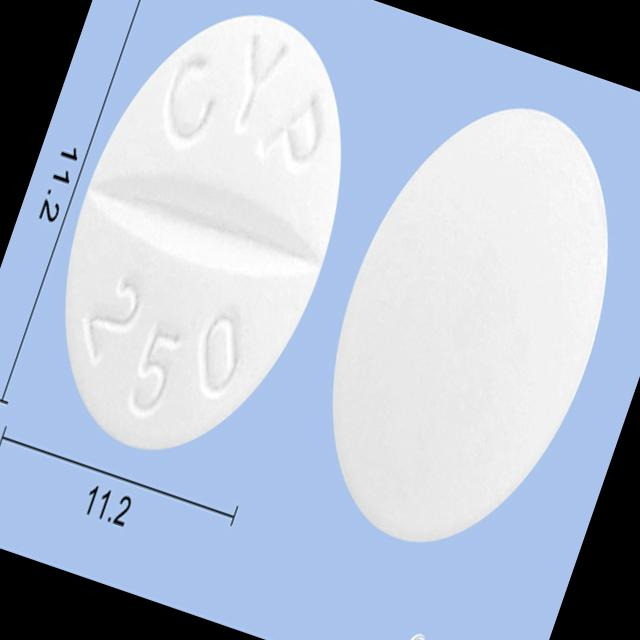Cypro: (10, 0, 395, 488)
